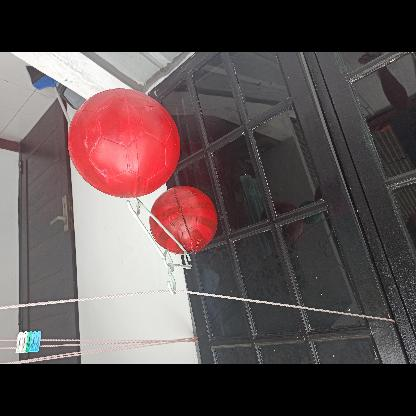red_ball: (70, 90, 181, 200), (151, 187, 219, 255)
